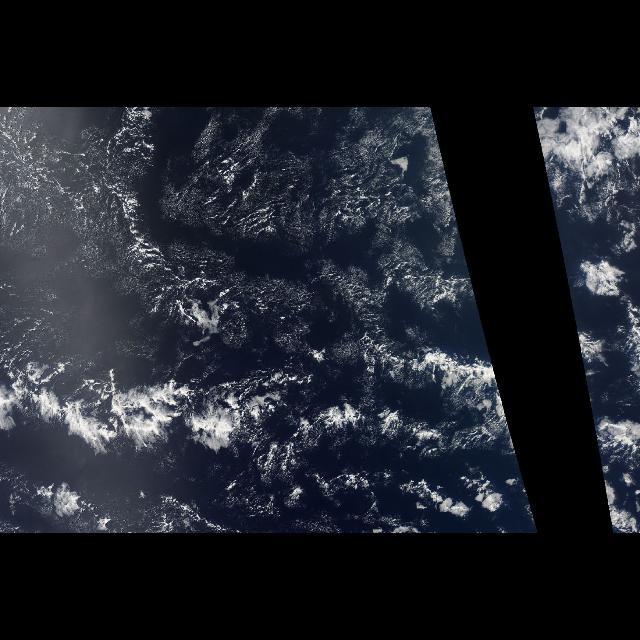Fish: (9, 362, 319, 456)
Sugar: (172, 132, 432, 270), (4, 125, 164, 288), (244, 279, 468, 333)
